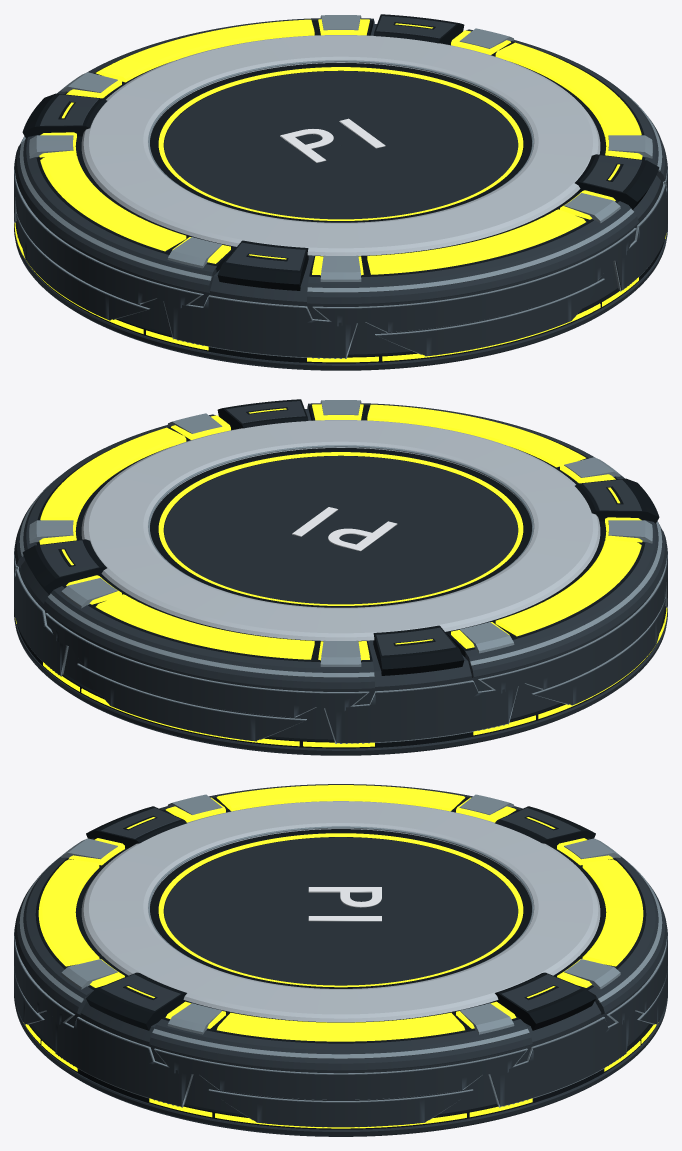
The model's file is Striker.fbx.
The picture shows the model from 3 angles, top to bottom: view 1: azimuth 30°, elevation 25°; view 2: azimuth 150°, elevation 25°; view 3: azimuth 270°, elevation 25°; orthographic projection.
Parts seen in each view (by area): view 1: SM_Puck_Striker_P1_HighDetail; view 2: SM_Puck_Striker_P1_HighDetail; view 3: SM_Puck_Striker_P1_HighDetail.
Boxes of the visible parts, x1=… form: SM_Puck_Striker_P1_HighDetail: x1=14, y1=14, x2=667, y2=370; SM_Puck_Striker_P1_HighDetail: x1=14, y1=399, x2=667, y2=755; SM_Puck_Striker_P1_HighDetail: x1=14, y1=784, x2=667, y2=1136.
Size of the model in its own units: 82.7 by 82.7 by 13.4.
